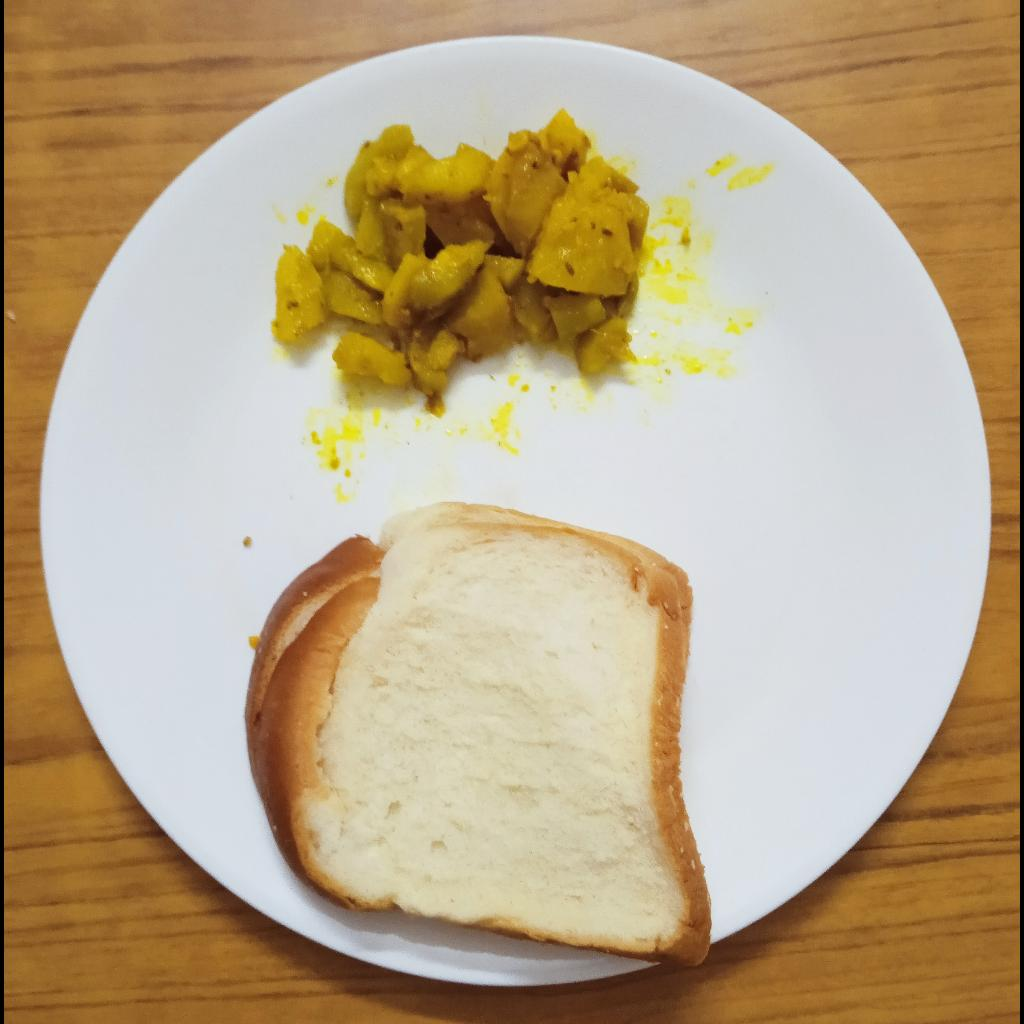bread: (244, 499, 715, 973)
lau: (267, 110, 649, 412)
